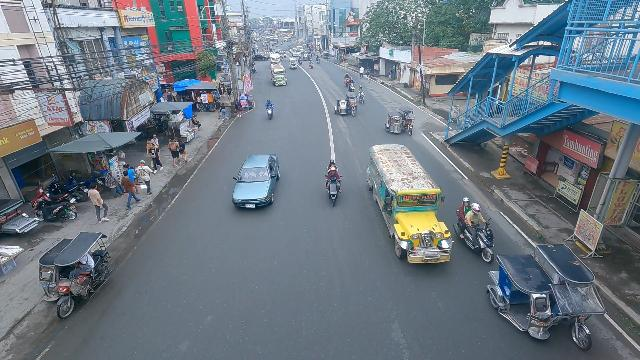car: (231, 152, 281, 211)
jeepney: (364, 143, 454, 265), (269, 63, 288, 87), (269, 53, 281, 66)
motorcycle: (454, 196, 494, 263), (324, 159, 341, 205), (264, 98, 274, 119), (348, 79, 356, 92), (344, 73, 350, 83), (308, 59, 314, 69), (298, 55, 303, 65), (315, 55, 320, 64)
truck: (291, 47, 301, 57)
